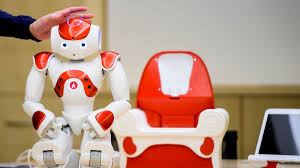nao: (18, 12, 130, 168)
